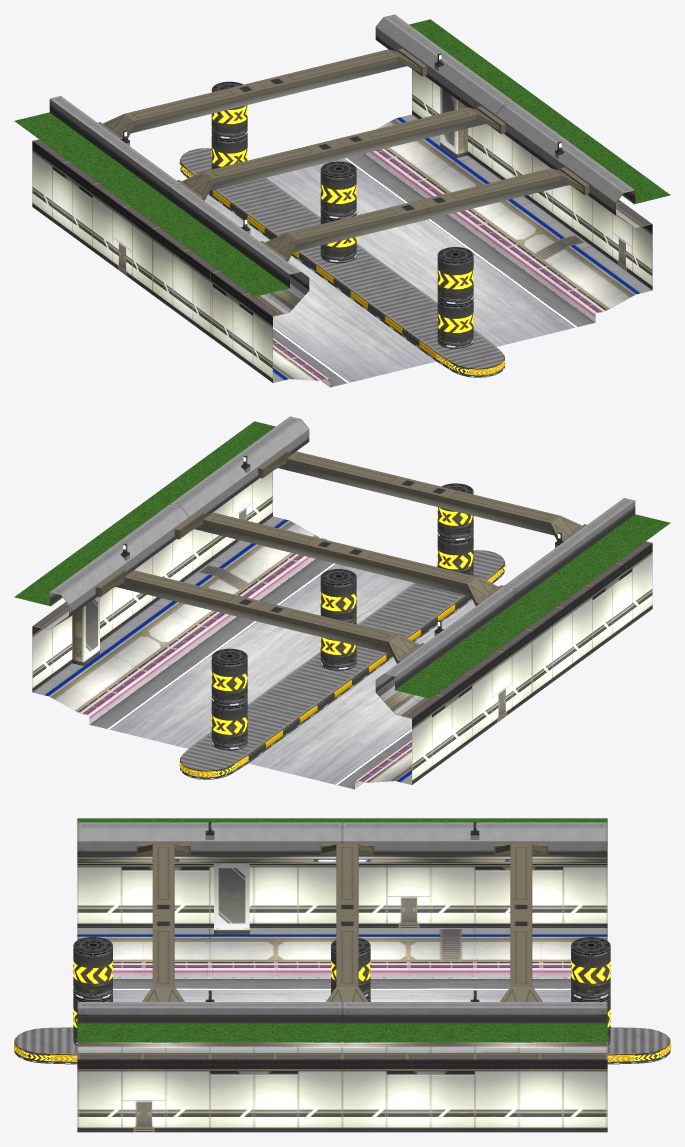
The model's file is T6 - Obstacle.fbx.
The picture shows the model from 3 angles, top to bottom: view 1: azimuth 30°, elevation 25°; view 2: azimuth 150°, elevation 25°; view 3: azimuth 270°, elevation 25°; orthographic projection. The views are drawn at different scales.
Parts seen in each view (by area): view 1: standard_trench, standard_road, sta_trench_arches, trench_grass, barriermesh, wall_straight_tunnel, cover_4, cover_5, cover_2, cover, cover_1, frame_2 (+2 smaller); view 2: standard_trench, standard_road, sta_trench_arches, trench_grass, barriermesh, wall_straight_tunnel, cover_1, cover, cover_2, cover_5, cover_4, cover_3 (+2 smaller); view 3: standard_trench, trench_grass, sta_trench_arches, standard_road, wall_straight_tunnel, barriermesh, cover_1, cover_4, frame_4, frame_1, cover_2.
Part boxes in pixels (x1,y1,x2,y2): standard_trench: (32,14,652,382); standard_road: (205,153,595,387); sta_trench_arches: (98,48,589,261); trench_grass: (14,19,670,296); barriermesh: (179,148,505,377); wall_straight_tunnel: (273,149,604,387); cover_4: (437,257,473,298); cover_5: (437,301,473,342); cover_2: (320,172,356,213); cover: (211,135,247,169); cover_1: (211,105,247,133); frame_2: (320,161,356,214); standard_trench: (32,416,652,784); standard_road: (89,559,475,789); sta_trench_arches: (95,450,586,663); trench_grass: (14,421,670,698); barriermesh: (179,550,505,779); wall_straight_tunnel: (80,537,411,789); cover_1: (211,659,247,700); cover: (211,702,247,744); cover_2: (320,579,356,620); cover_5: (437,537,473,575); cover_4: (437,494,473,535); cover_3: (320,623,356,664); standard_trench: (77,822,607,1132); trench_grass: (77,818,607,1042); sta_trench_arches: (136,843,548,1001); standard_road: (113,979,571,1001); wall_straight_tunnel: (113,964,570,978); barriermesh: (14,1027,670,1064); cover_1: (571,948,610,994); cover_4: (73,948,112,994); frame_4: (73,937,112,995); frame_1: (571,937,610,995); cover_2: (331,948,370,992).
Size of the model in its own units: 6400 by 1913 by 7933.
